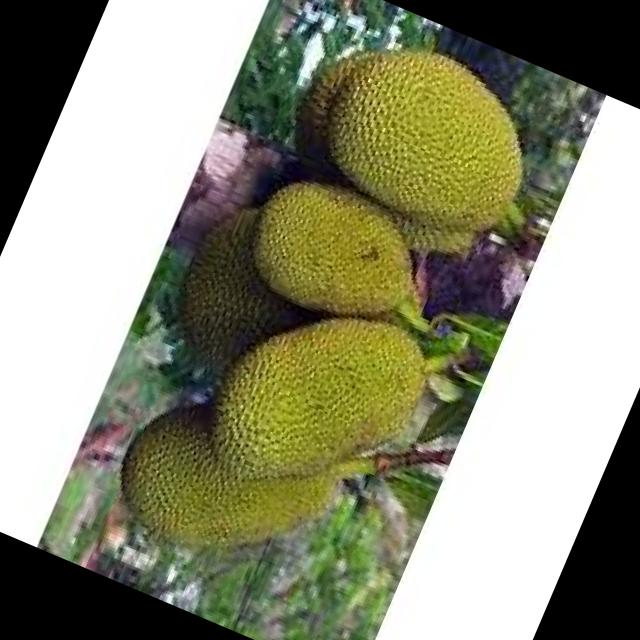Fruit: (72, 225, 460, 623), (248, 0, 570, 279), (178, 132, 469, 368)
